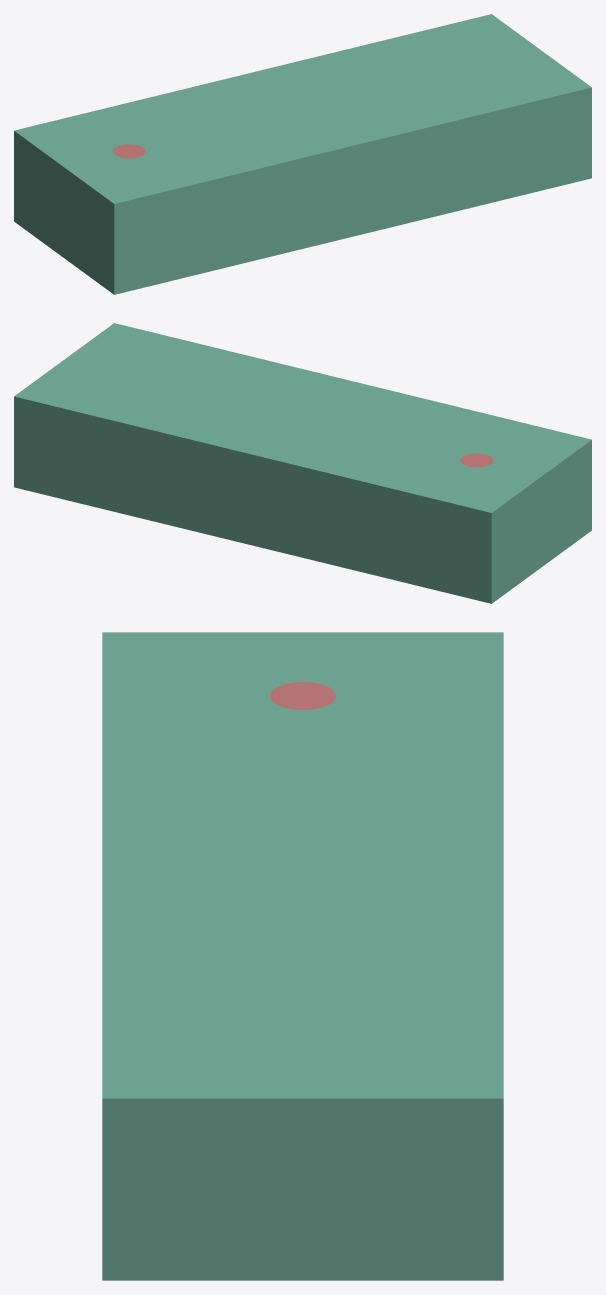
File: step_03.glb
3 views of the same model, one above another, from view 1: azimuth 30°, elevation 25°; view 2: azimuth 150°, elevation 25°; view 3: azimuth 270°, elevation 25° (orthographic). The views are drawn at different scales.
Visible parts, largest first — view 1: part__hole features block, removed__hole features block; view 2: part__hole features block, removed__hole features block; view 3: part__hole features block, removed__hole features block.
Boxes of the visible parts, box(x1,y1,x2,y2) form: part__hole features block: box(14, 14, 591, 294); removed__hole features block: box(112, 144, 145, 158); part__hole features block: box(14, 323, 591, 603); removed__hole features block: box(460, 453, 493, 467); part__hole features block: box(102, 632, 503, 1280); removed__hole features block: box(270, 682, 335, 709).
Bounding box in the file's own units: 110 × 20 × 40.
